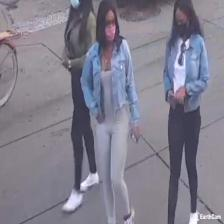person: (80, 0, 140, 224), (162, 0, 208, 223), (63, 0, 98, 197)
